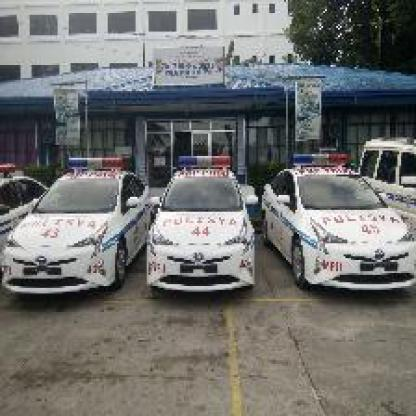emergency: (13, 150, 414, 340)
